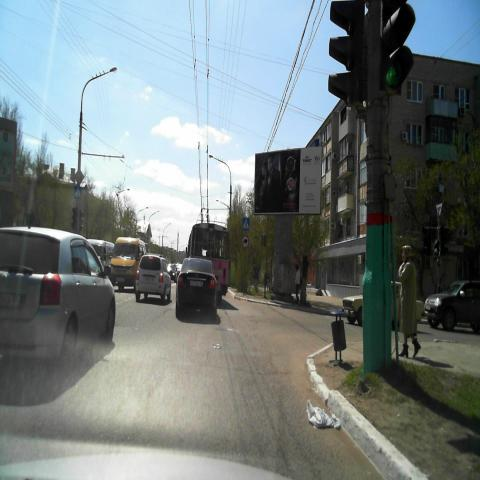3_4_1: (241, 235, 249, 249)
5_19_1: (242, 217, 250, 231), (74, 186, 82, 200)
